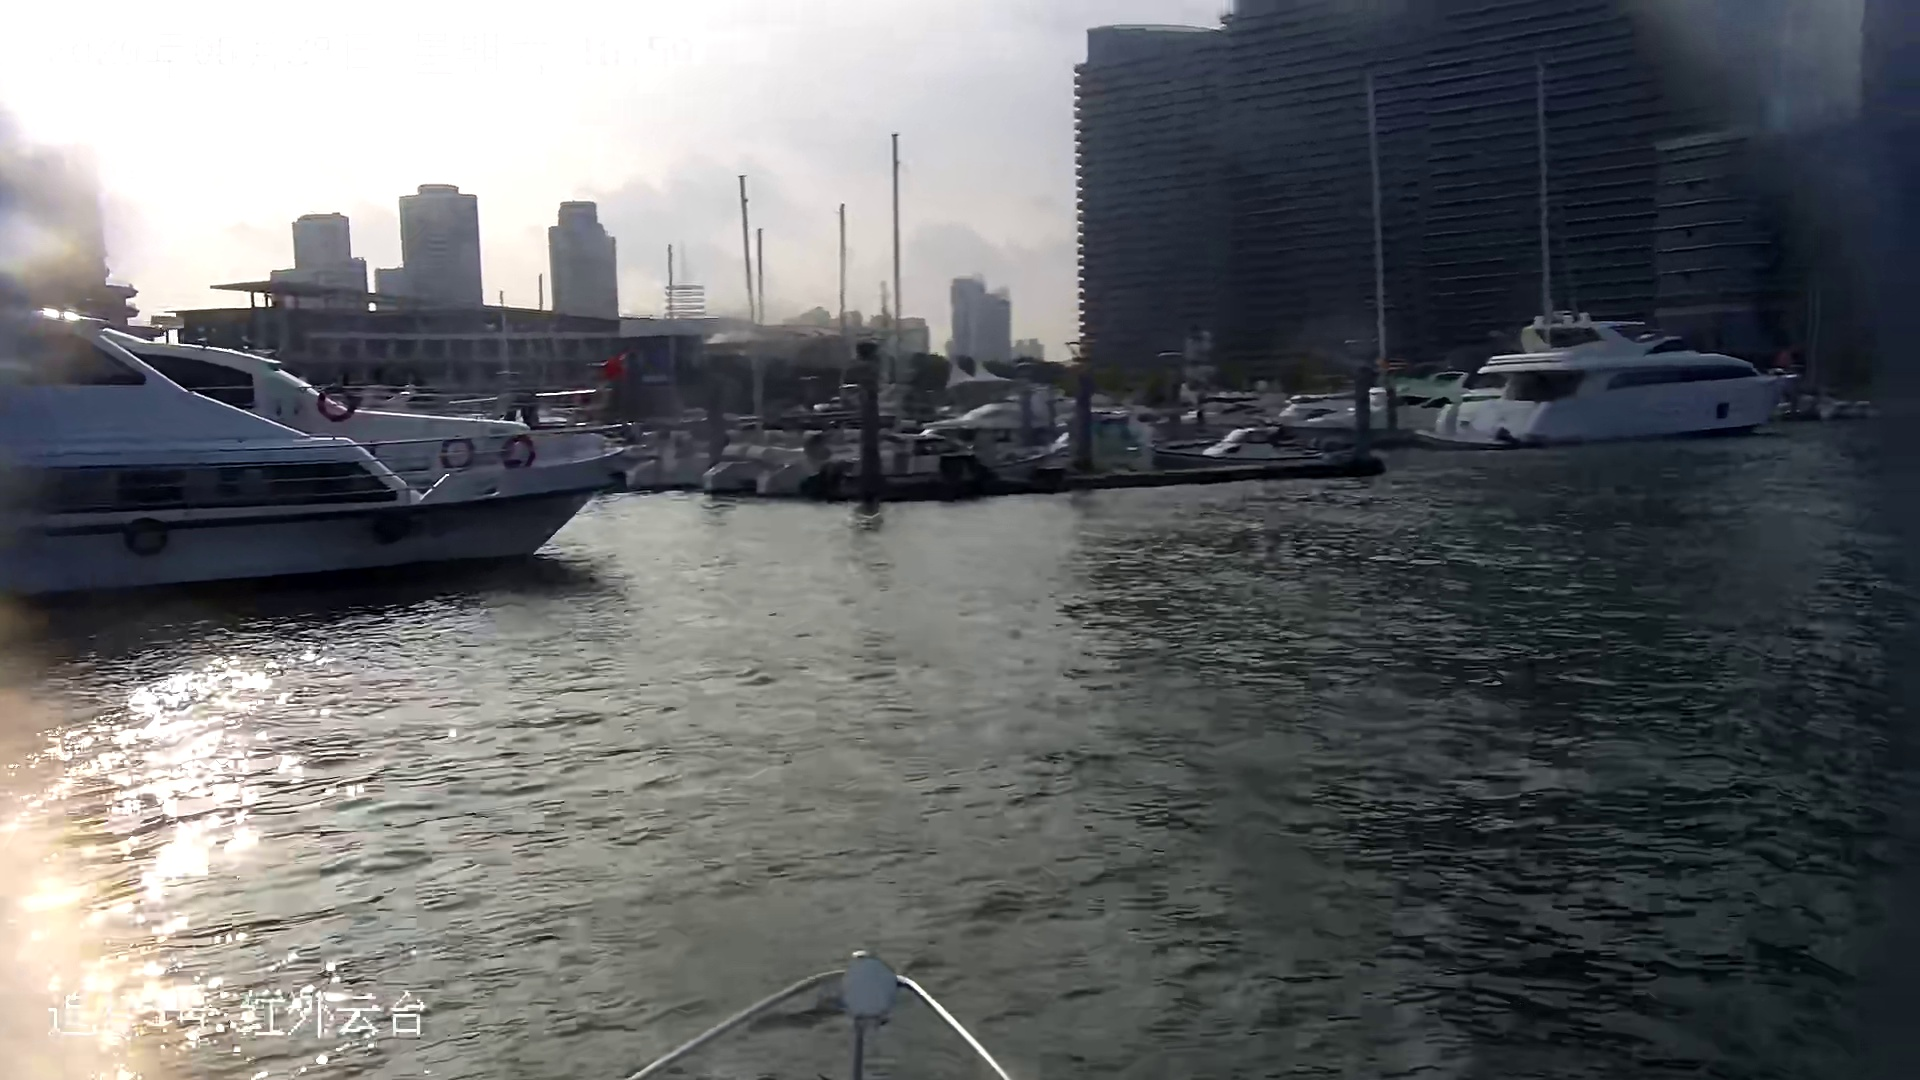barrier: (1, 305, 636, 576), (1435, 313, 1795, 456)
coast: (34, 1, 1907, 498)
